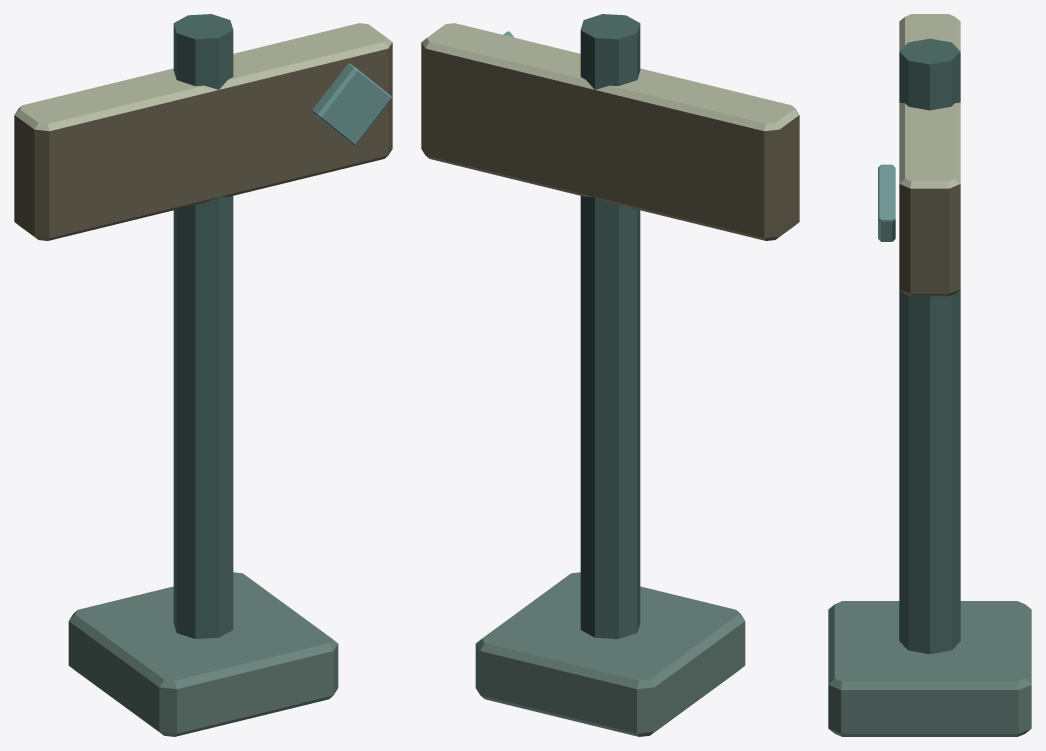
The model's file is waymarker.glb.
3 views of the same model, side by side, from view 1: azimuth 30°, elevation 25°; view 2: azimuth 150°, elevation 25°; view 3: azimuth 270°, elevation 25° (orthographic).
Visible parts, largest first — view 1: waymarker__body; view 2: waymarker__body; view 3: waymarker__body.
Part boxes in pixels (bbox=[...]): waymarker__body: bbox=[14, 14, 392, 736]; waymarker__body: bbox=[421, 14, 799, 736]; waymarker__body: bbox=[828, 14, 1031, 736].
Bounding box in the file's own units: 0.8 × 1.4 × 0.4.
